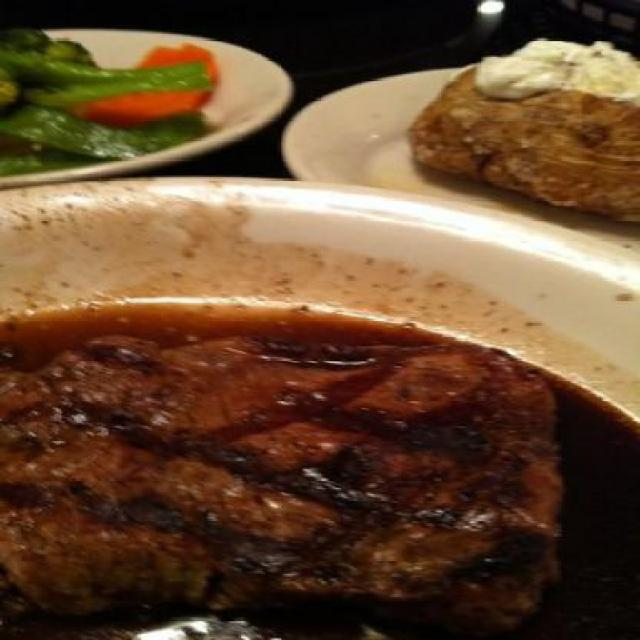Steak: (42, 323, 580, 602)
